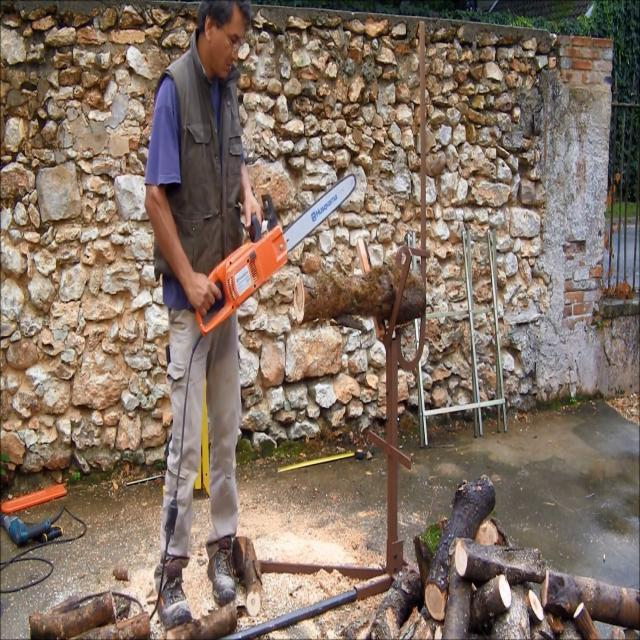Chainsaw: (192, 136, 366, 353)
